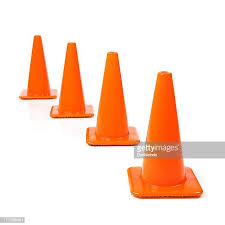cone: (128, 71, 202, 199), (86, 52, 139, 146), (50, 42, 94, 118), (18, 35, 56, 100)
